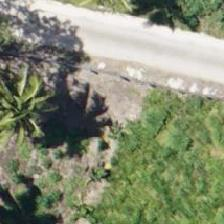coconut_tree: (0, 54, 57, 144)
